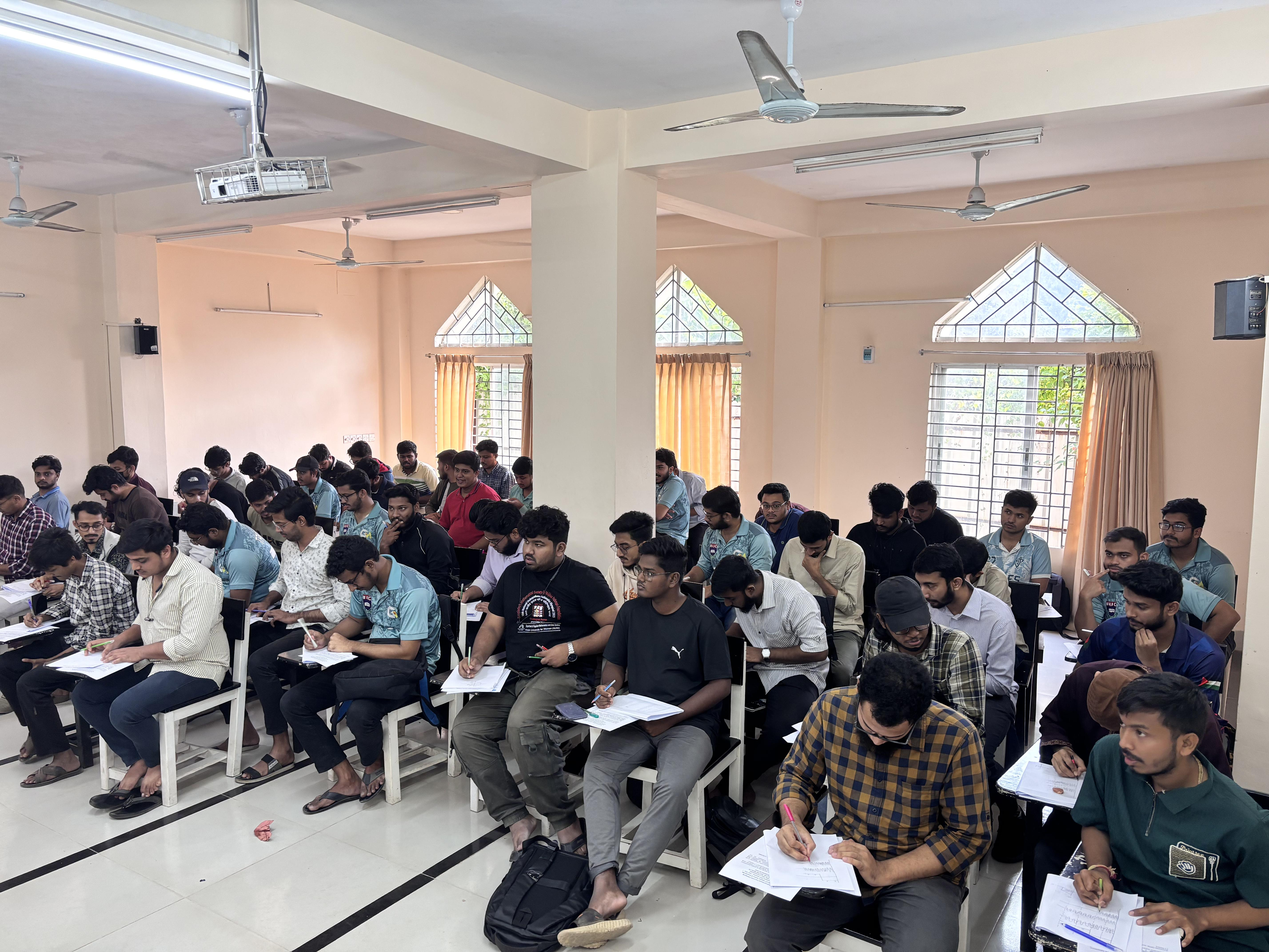copying: (854, 572, 960, 663), (1102, 566, 1195, 669), (912, 544, 969, 624), (67, 496, 111, 550), (173, 466, 218, 504)
hidden_communication: (430, 441, 455, 486)
no_cheating: (756, 660, 982, 941), (1070, 670, 1261, 950), (290, 534, 438, 757), (597, 539, 709, 793), (79, 520, 208, 721), (493, 506, 594, 729), (701, 548, 820, 697), (170, 503, 281, 608), (17, 532, 108, 642), (781, 511, 868, 626), (255, 491, 332, 618), (850, 483, 924, 578), (1146, 488, 1219, 579), (71, 457, 168, 524), (984, 483, 1050, 580), (437, 448, 497, 546), (1064, 530, 1149, 597), (467, 497, 521, 578), (899, 471, 954, 542), (371, 487, 431, 552), (0, 466, 33, 577), (329, 472, 380, 533), (607, 506, 649, 572), (387, 436, 438, 486), (751, 479, 799, 532), (199, 438, 244, 492), (287, 450, 333, 500), (29, 451, 64, 497), (235, 449, 280, 484), (472, 433, 505, 477), (510, 450, 533, 496)
side_talking: (698, 483, 758, 563), (341, 433, 381, 468)
suspicious_moving: (646, 442, 690, 531)
